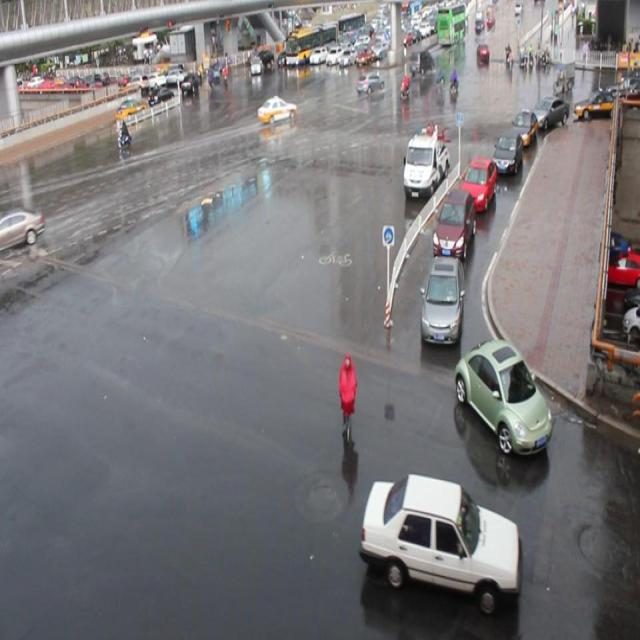bus: (401, 128, 448, 204)
car: (360, 470, 519, 610), (454, 338, 550, 456), (419, 254, 464, 343), (432, 187, 473, 260), (458, 155, 494, 211), (1, 208, 45, 248), (528, 94, 568, 130), (490, 128, 521, 174), (258, 95, 297, 123), (510, 110, 537, 146)
